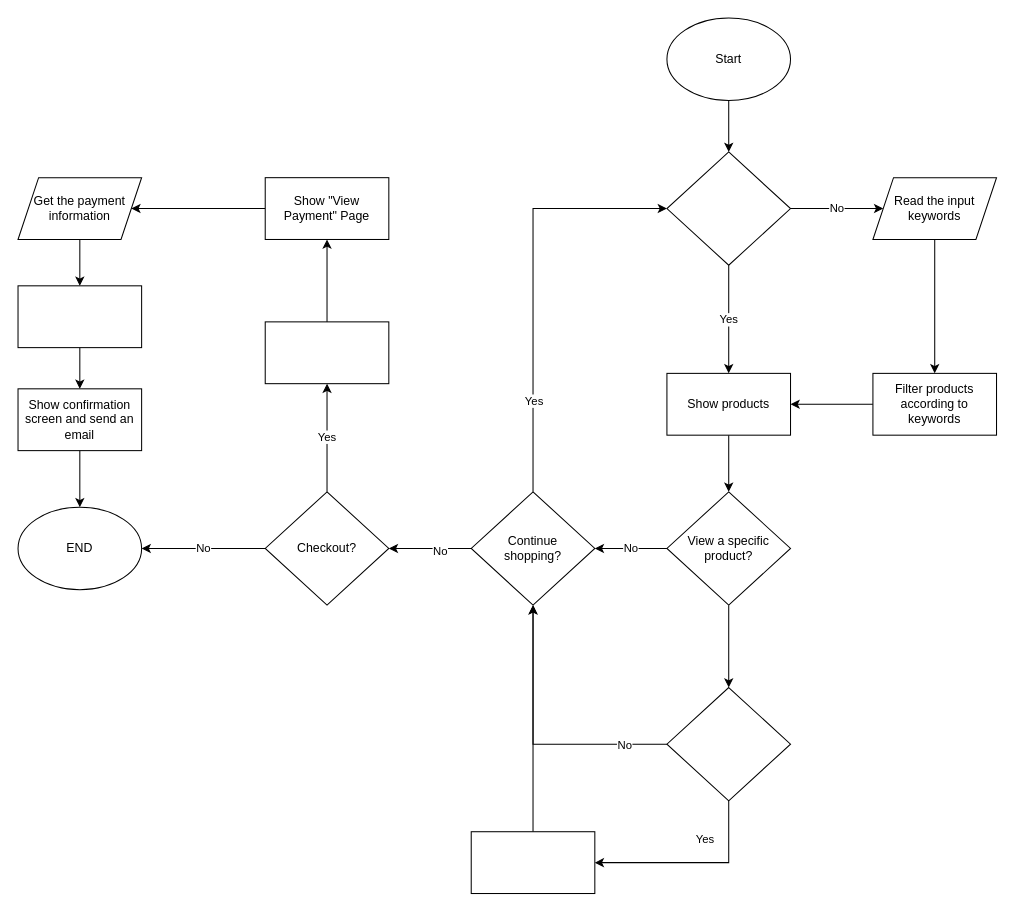
The diagram is 1015 pixels wide and 912 high, and some of its shapes have lost their labels. The shapes that lost their labels are listed below. From the top down, each one's box as (x1, y1, x2, y2) in pixels, then its label:
(666, 151, 791, 265): Show all products?
(17, 285, 142, 348): Make the payment transaction
(264, 321, 389, 384): Show "View Cart" Page
(666, 686, 791, 801): Add the item to the cart?
(470, 831, 595, 894): Show confirmation of adding
